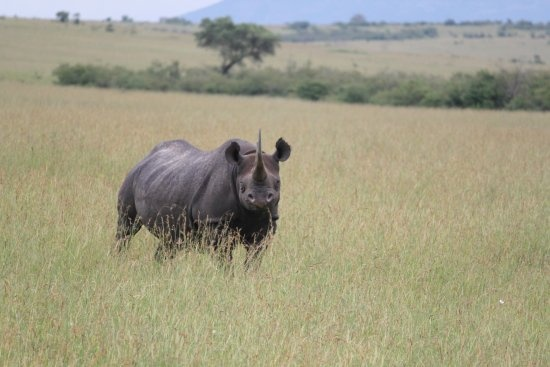rhino: (110, 126, 293, 274)
